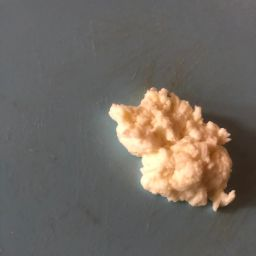Crumbled Feta: (104, 78, 244, 241), (169, 102, 224, 196), (111, 108, 162, 165)
